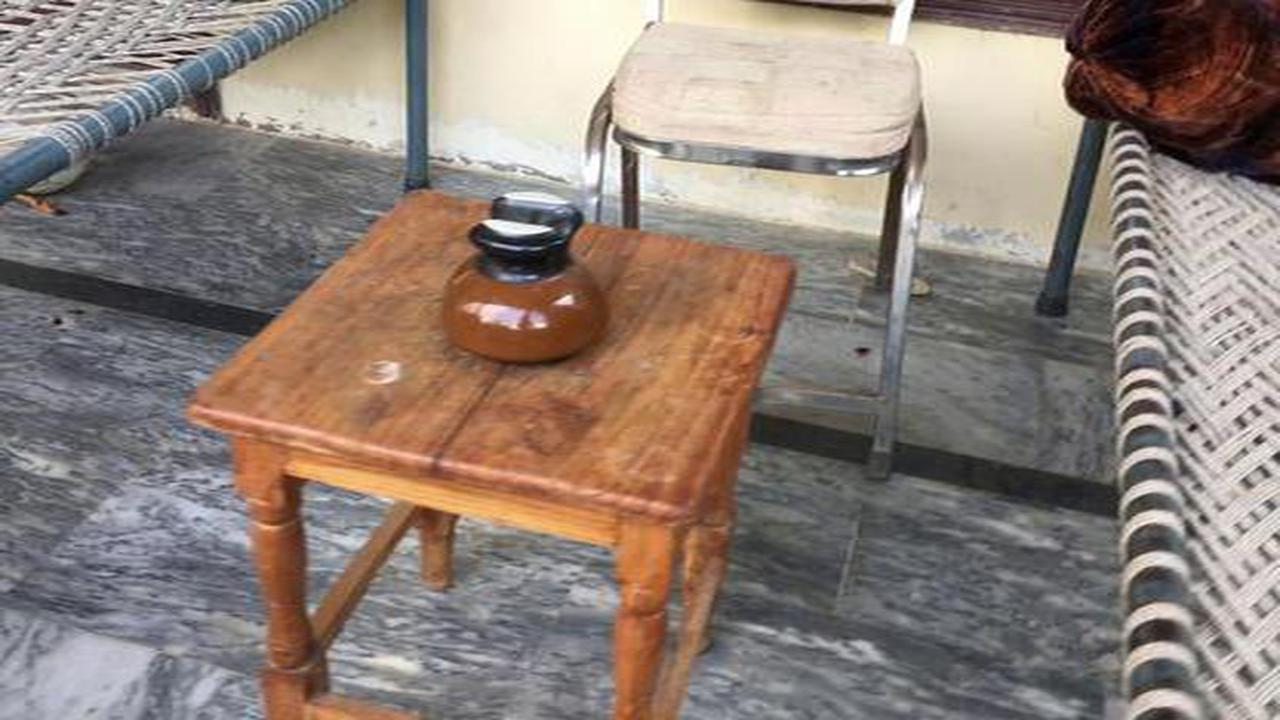insulator_pin: (425, 187, 616, 376)
